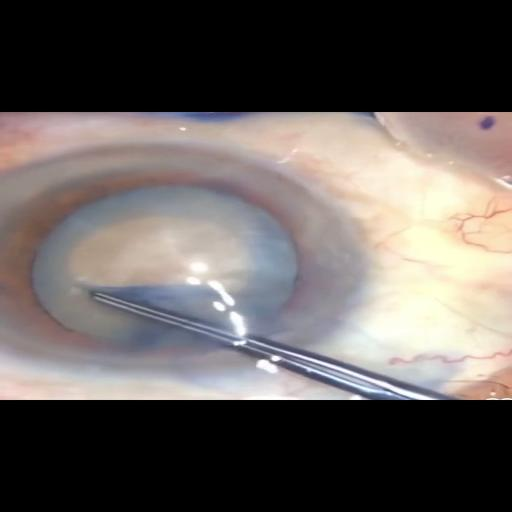catarata: (37, 189, 299, 354)
cornea: (0, 127, 438, 372)
